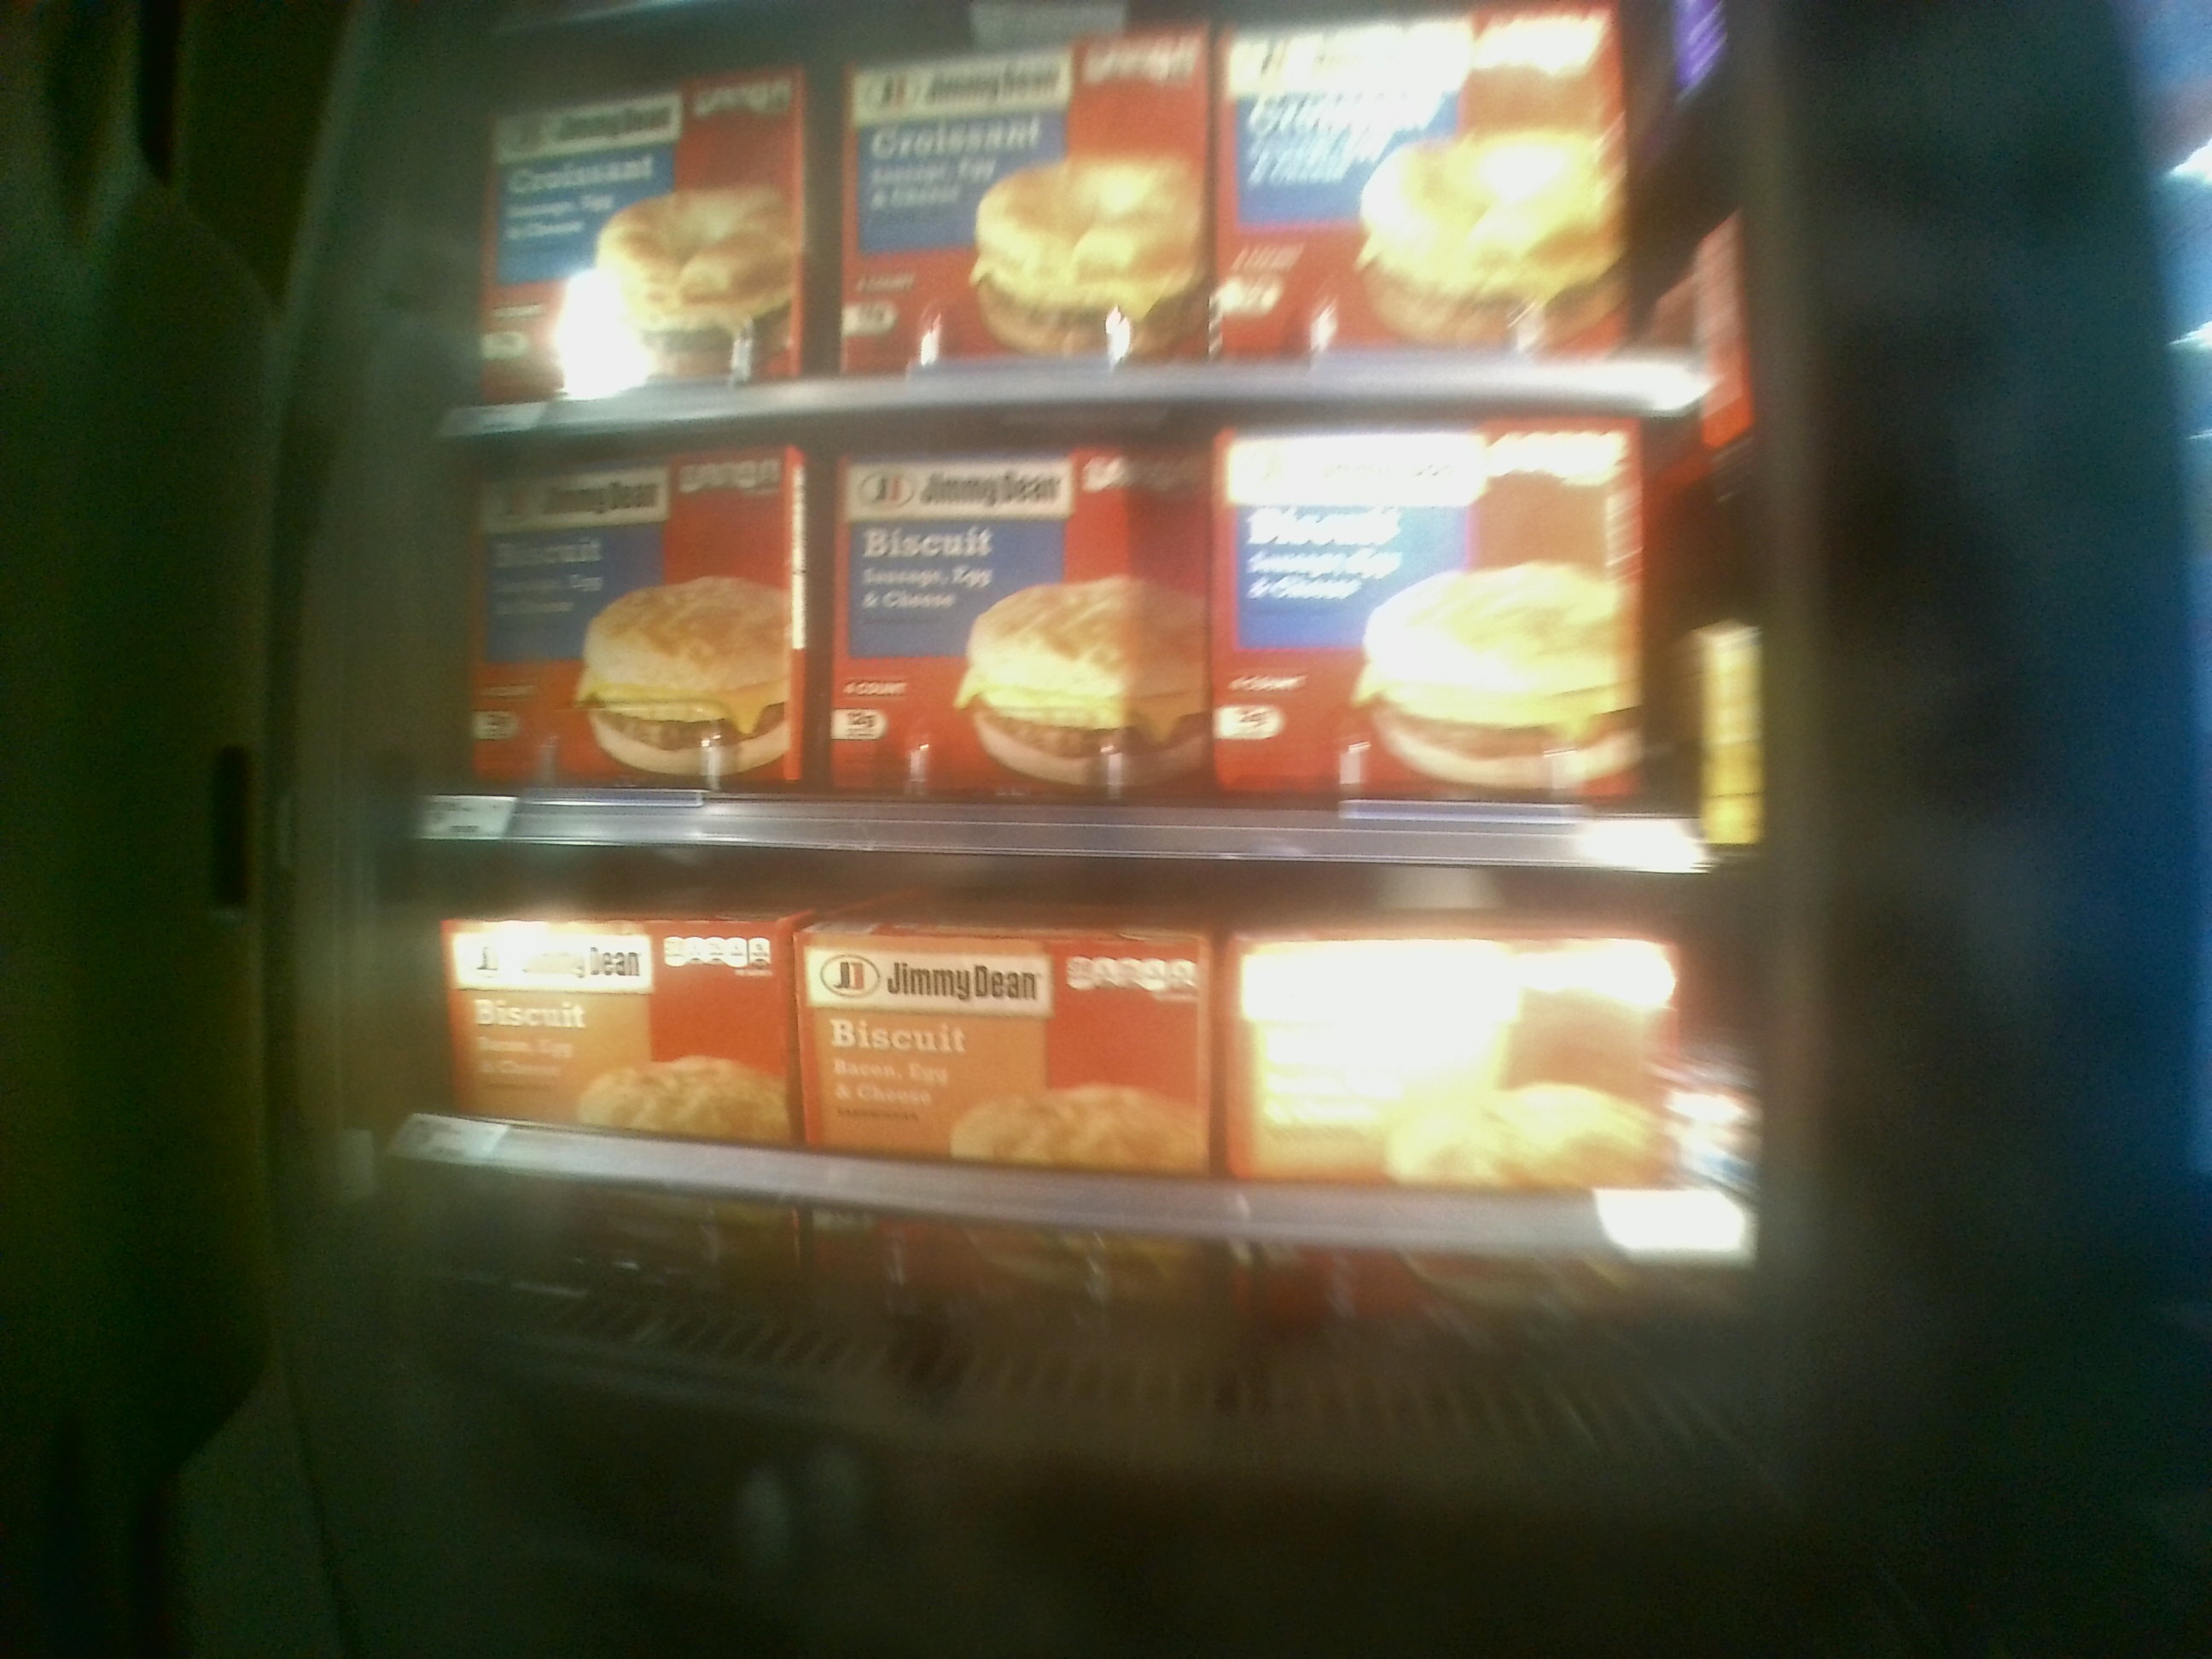shelf: (415, 854, 1752, 1310), (439, 436, 1724, 868)
